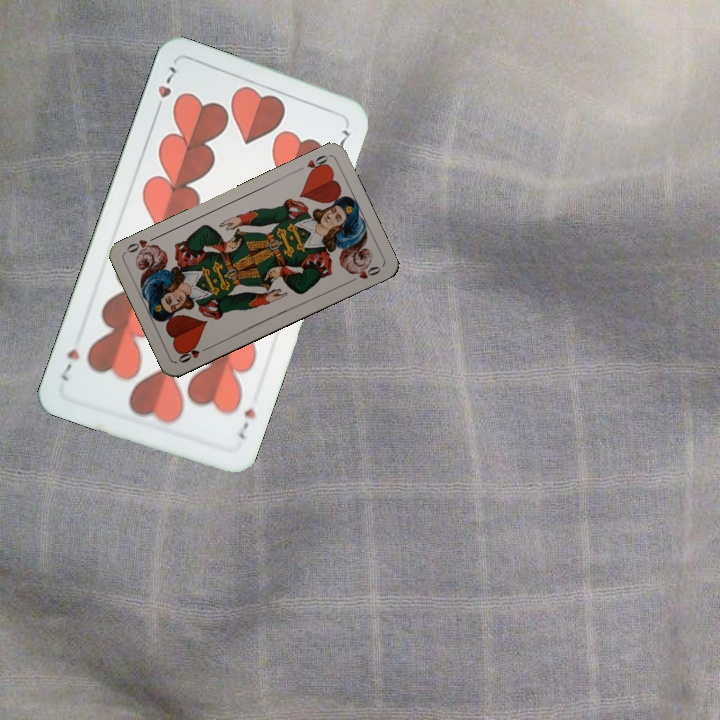H7: (151, 62, 179, 117), (233, 404, 259, 442)
HO: (293, 151, 332, 177), (174, 342, 212, 366)
